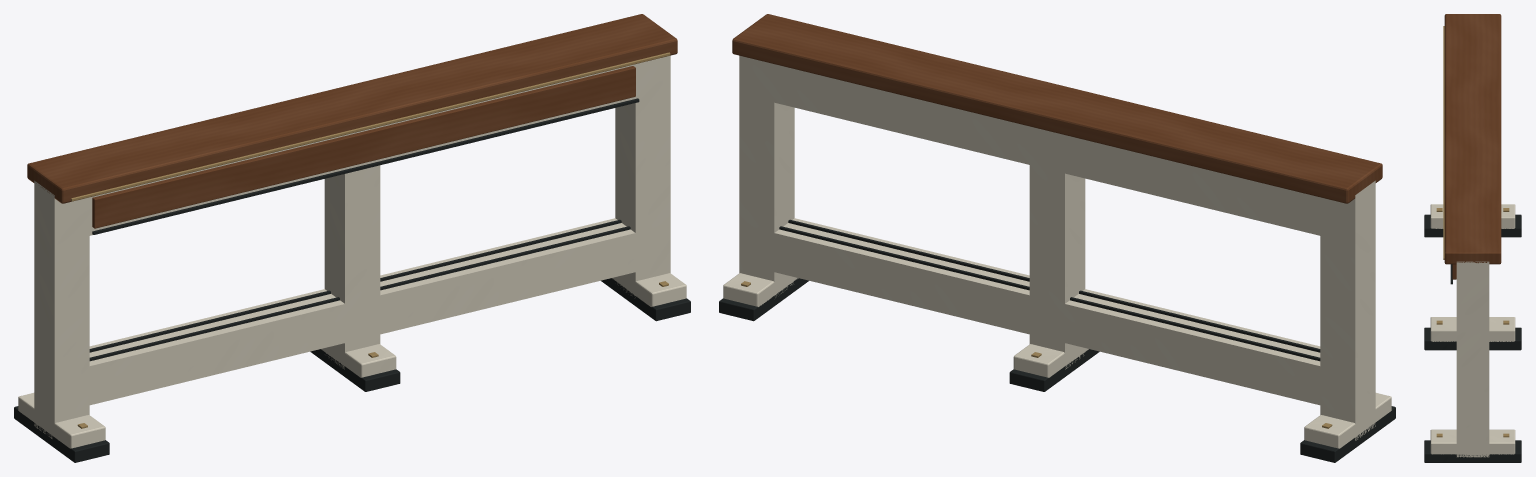
The model's file is AST-SAL-005.glb.
3 views of the same model, side by side, from view 1: azimuth 30°, elevation 25°; view 2: azimuth 150°, elevation 25°; view 3: azimuth 270°, elevation 25° (orthographic). The views are drawn at different scales.
Visible parts, largest first — view 1: AST-SAL-005__ivory_enamel, AST-SAL-005__warm_walnut, AST-SAL-005__dark_rubber, AST-SAL-005__champagne_metal; view 2: AST-SAL-005__ivory_enamel, AST-SAL-005__warm_walnut, AST-SAL-005__dark_rubber; view 3: AST-SAL-005__warm_walnut, AST-SAL-005__ivory_enamel, AST-SAL-005__dark_rubber, AST-SAL-005__champagne_metal.
Boxes of the visible parts, bbox=[...] form: AST-SAL-005__ivory_enamel: bbox=[18, 55, 686, 448]; AST-SAL-005__warm_walnut: bbox=[27, 14, 677, 228]; AST-SAL-005__dark_rubber: bbox=[14, 98, 690, 462]; AST-SAL-005__champagne_metal: bbox=[71, 52, 670, 428]; AST-SAL-005__ivory_enamel: bbox=[723, 55, 1391, 448]; AST-SAL-005__warm_walnut: bbox=[732, 14, 1382, 203]; AST-SAL-005__dark_rubber: bbox=[719, 219, 1395, 462]; AST-SAL-005__warm_walnut: bbox=[1444, 14, 1501, 279]; AST-SAL-005__ivory_enamel: bbox=[1430, 204, 1515, 457]; AST-SAL-005__dark_rubber: bbox=[1424, 214, 1521, 462]; AST-SAL-005__champagne_metal: bbox=[1436, 26, 1509, 437].
Size of the model in its own units: 2.8 by 1.15 by 0.48.
4 materials, 4 textured.
